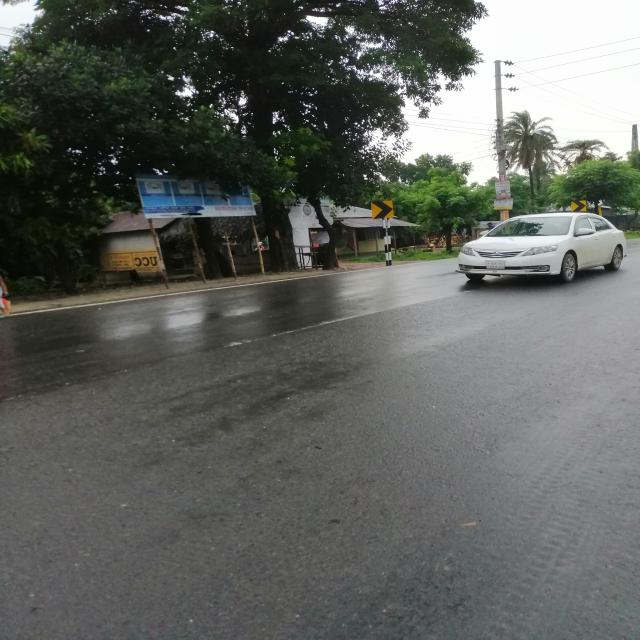Car: (450, 209, 631, 289)
